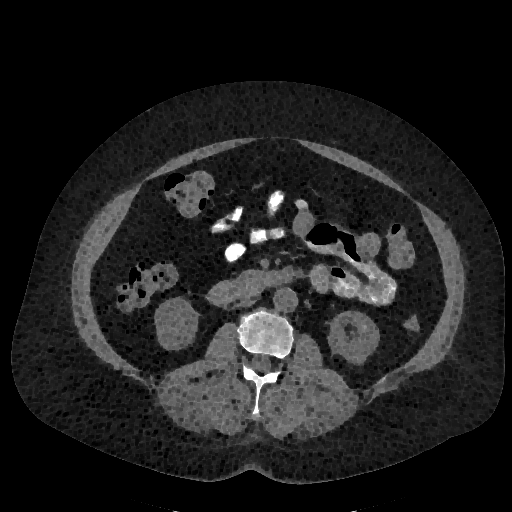Lesion: (358, 322, 371, 333)
